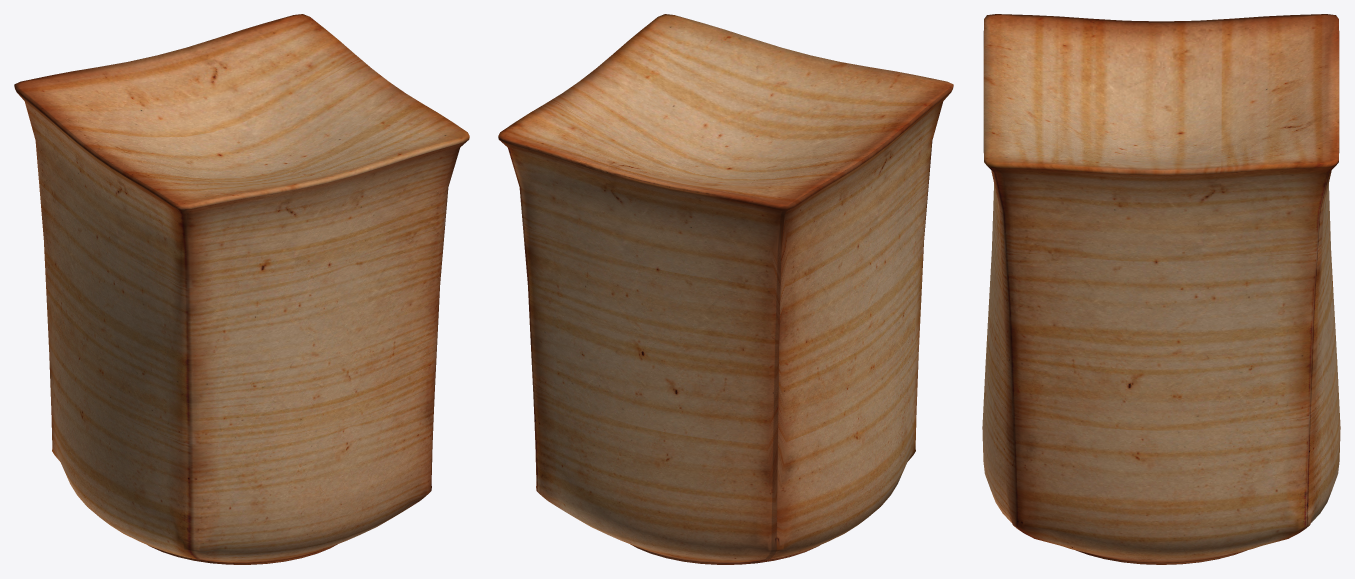
The model's file is PaperLantern.fbx.
3 views of the same model, side by side, from view 1: azimuth 30°, elevation 25°; view 2: azimuth 150°, elevation 25°; view 3: azimuth 270°, elevation 25° (orthographic). The views are drawn at different scales.
Parts seen in each view (by area): view 1: Latern_Paper; view 2: Latern_Paper; view 3: Latern_Paper.
Part boxes in pixels (x1,y1,x2,y2): Latern_Paper: (14, 14, 469, 564); Latern_Paper: (498, 14, 953, 564); Latern_Paper: (982, 14, 1340, 564).
Bounding box in the file's own units: 22.03 × 28.74 × 22.03.
